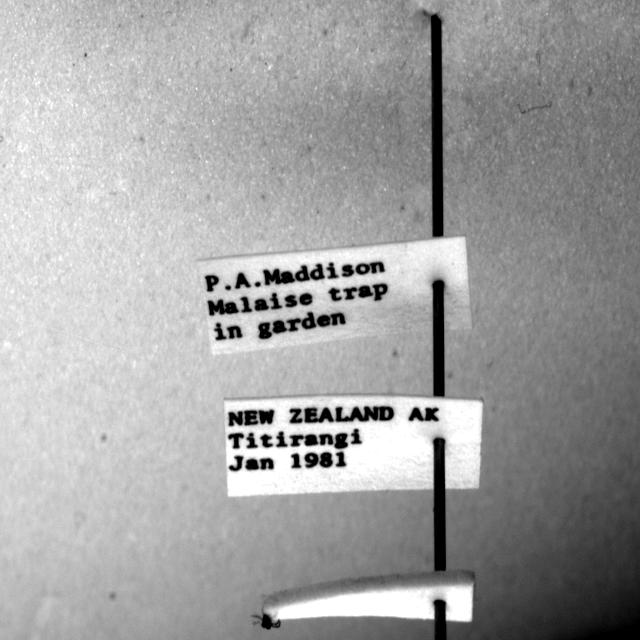typed_label: (199, 236, 472, 354), (225, 396, 482, 497)
